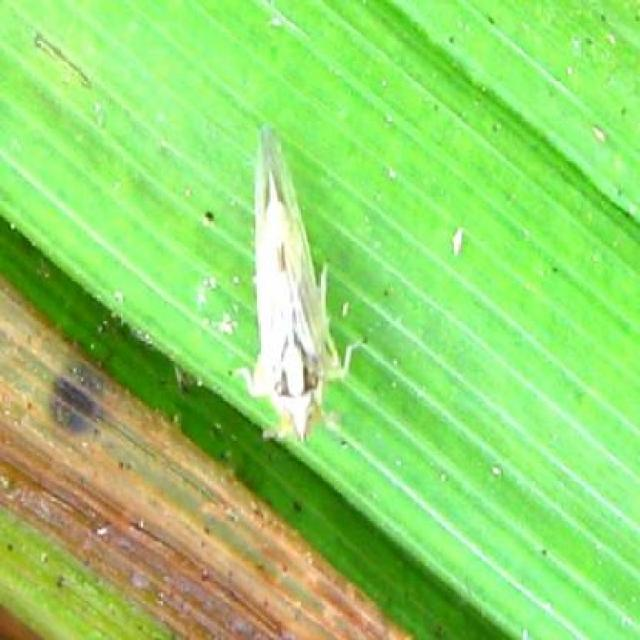brown-planthopper: (234, 123, 343, 442)
